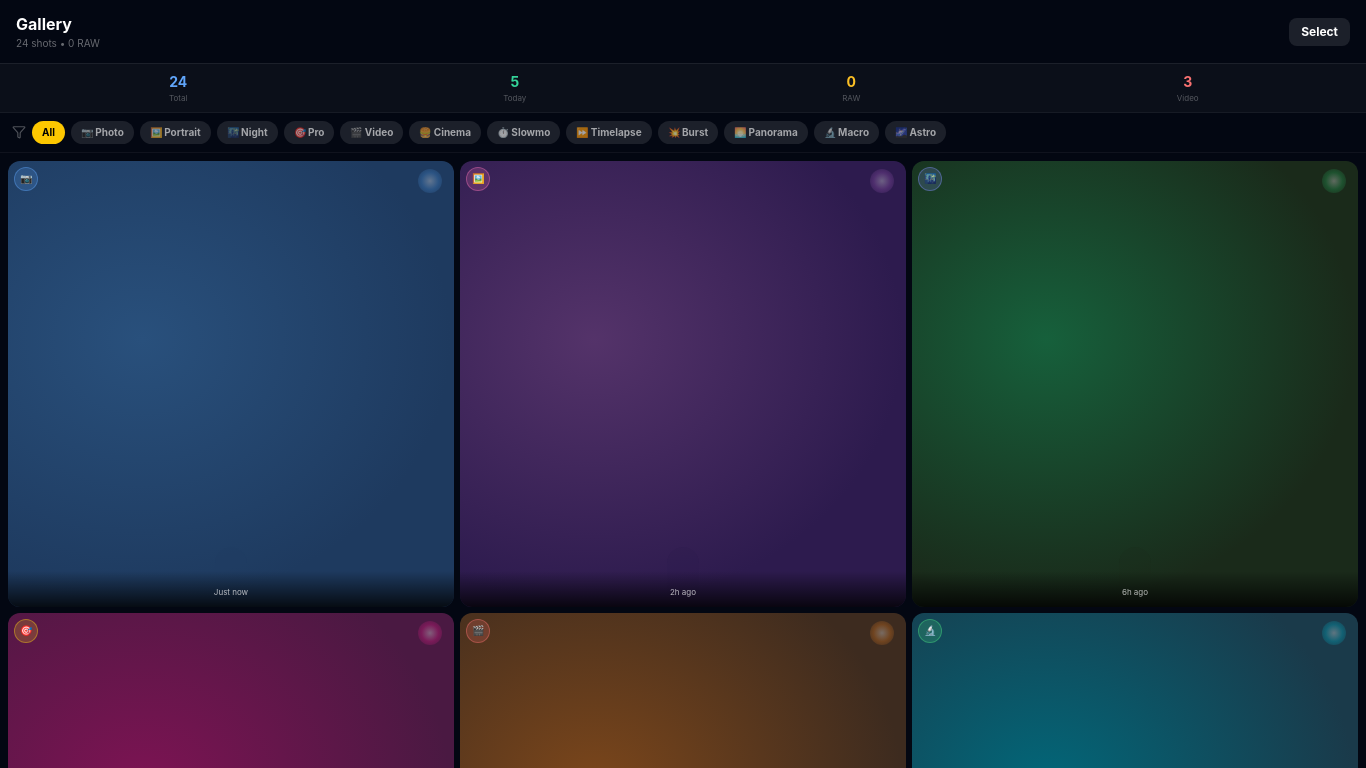
Test: GalleryView › toggles selection mode and shows selected count
Click the button "Select": (1320, 32) [1289,18,1350,46]
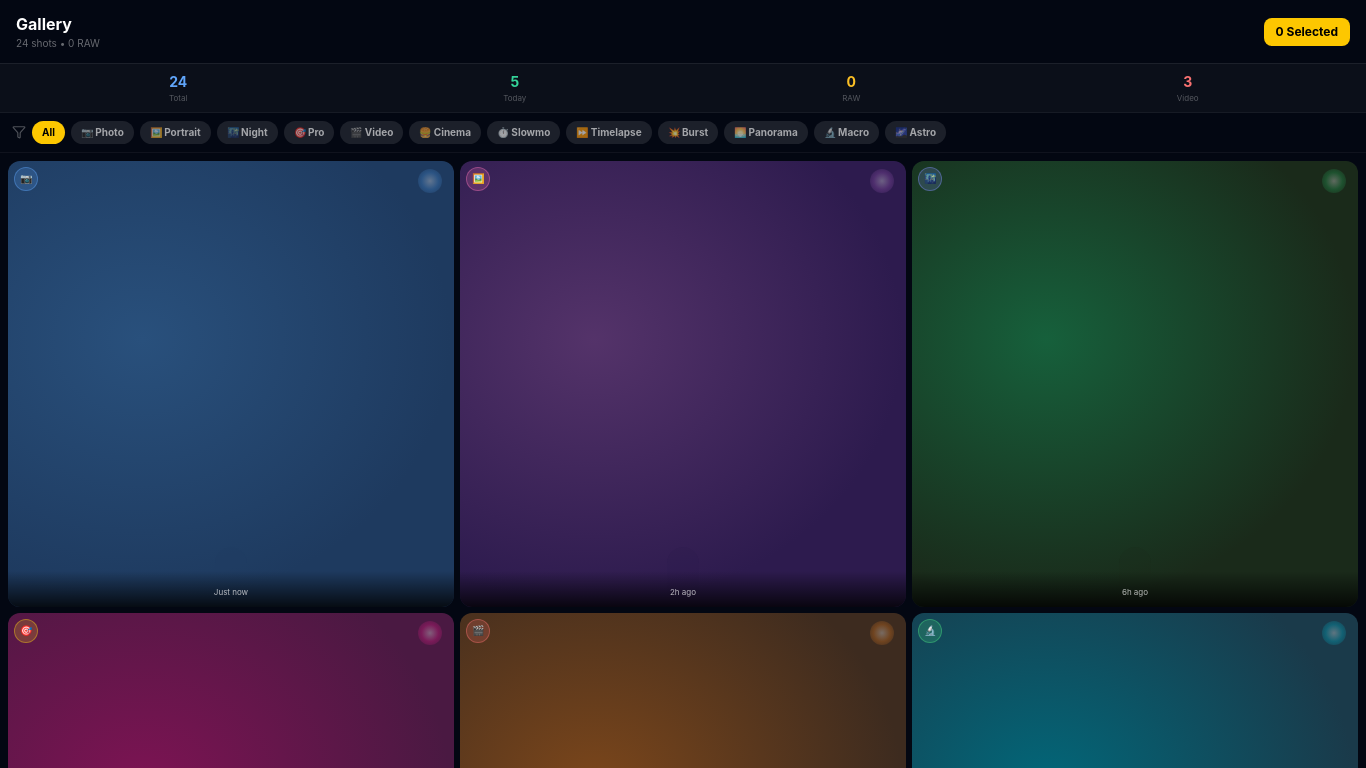
Now the button "0 Selected" is shown, box [1264,18,1350,46]
